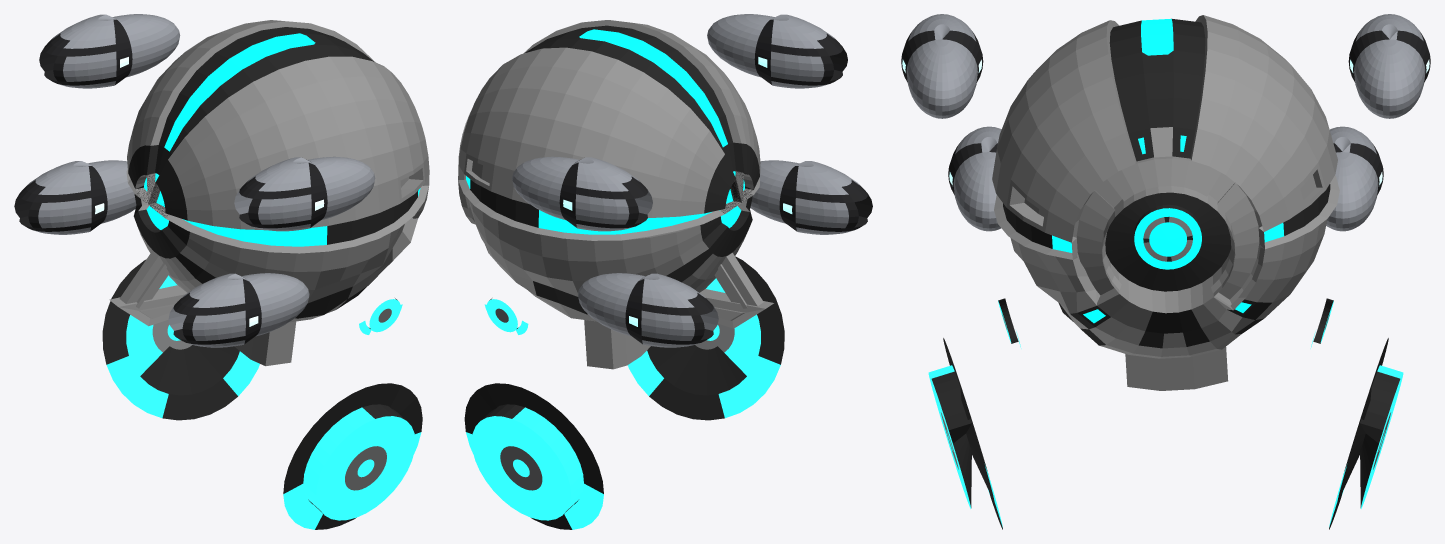
Rendered from drones2.fbx.
3 views of the same model, side by side, from view 1: azimuth 30°, elevation 25°; view 2: azimuth 150°, elevation 25°; view 3: azimuth 270°, elevation 25° (orthographic). The views are drawn at different scales.
Visible parts, largest first — view 1: 球, 円.001, 円; view 2: 球, 円.001, 円; view 3: 球, 円.001, 円.
Part boxes in pixels (x1,y1,x2,y2): 球: (109, 20, 429, 366); 円.001: (14, 160, 422, 529); 円: (39, 14, 402, 334); 球: (458, 20, 773, 369); 円.001: (464, 160, 872, 529); 円: (484, 14, 847, 334); 球: (992, 15, 1339, 390); 円.001: (928, 126, 1403, 529); 円: (901, 14, 1430, 348).
Size of the model in its own units: 230 by 314 by 304.
